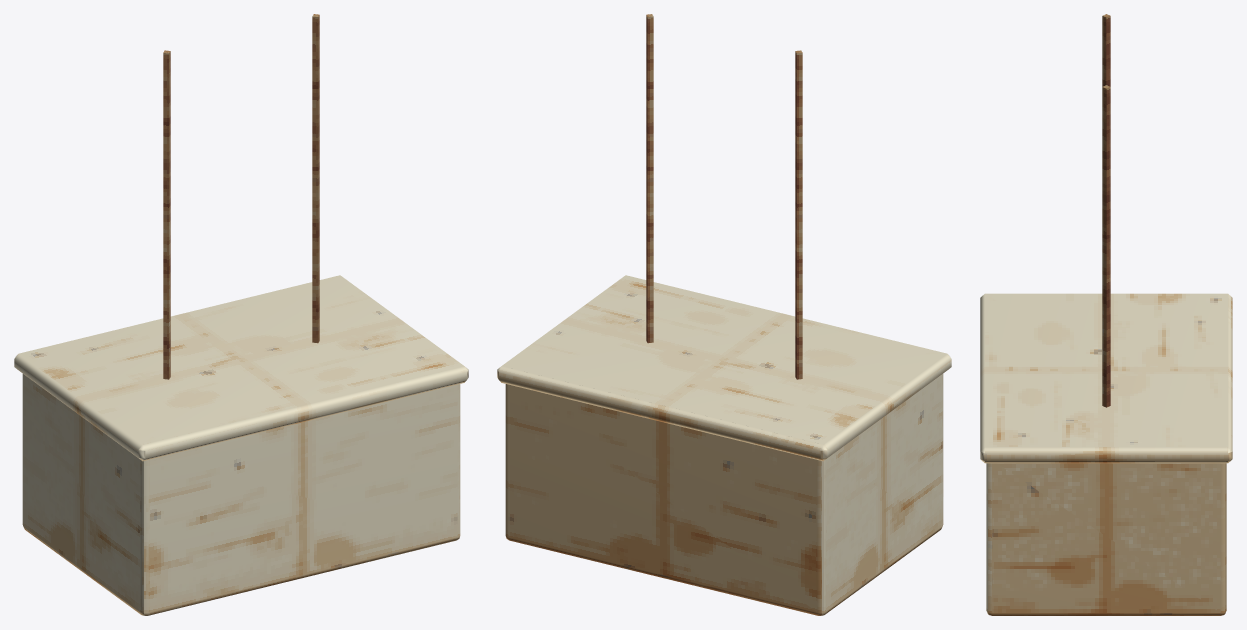
File: styro_box.glb
3 renders of one model, left to right at view 1: azimuth 30°, elevation 25°; view 2: azimuth 150°, elevation 25°; view 3: azimuth 270°, elevation 25°, orthographic. The views are drawn at different scales.
Visible parts, largest first — view 1: mesh; view 2: mesh; view 3: mesh.
Part boxes in pixels (x1,y1,x2,y2): mesh: (14, 14, 468, 615); mesh: (497, 14, 951, 615); mesh: (980, 14, 1232, 615).
Size of the model in its own units: 0.62 by 0.9 by 0.4199.
Materials: 1 (1 with a texture image).
